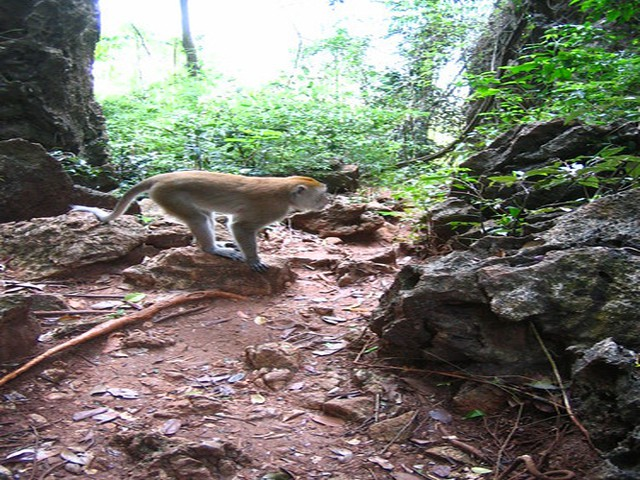Monkey: (102, 168, 334, 273)
